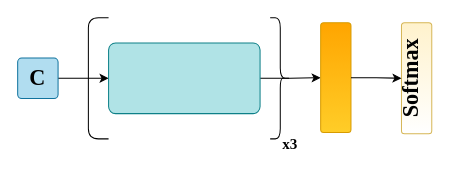
This 449x177 diagram has some shape labels left out. Here are the shapes that lost their labels. From the top down, the centre of each, then its label:
At point 184,78: "Conv2D + MaxPool2D".
At point 335,77: "Flatten".
